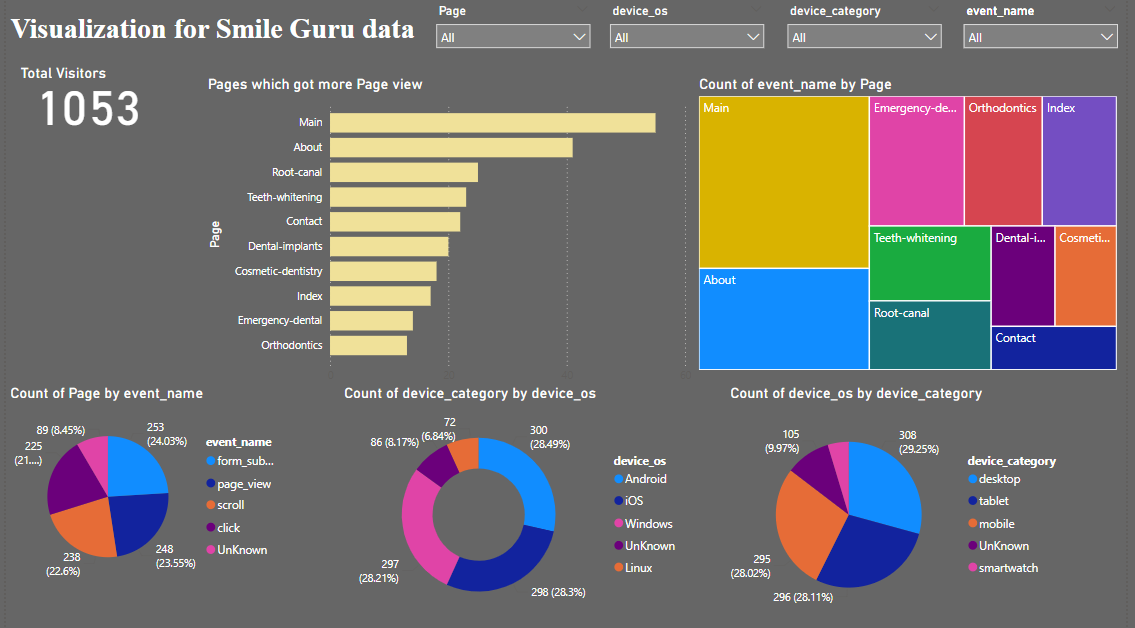

The dashboard page shown, as its layout file describes it:
{"tool":"powerbi","page":{"name":"Page 1","canvas":[1280,720],"ordinal":0},"visuals":[{"type":"barChart","title":"Pages which got more Page view","fields":{"Category":["clean data2.Page"],"Y":["CountNonNull(clean data2.event_name)"]},"box":[0,312.3,435.3,407.9],"z":0},{"type":"pieChart","fields":{"Y":["CountNonNull(clean data2.device_os)"],"Category":["clean data2.event_name"]},"box":[827.5,382.7,452.1,317.5],"z":1000},{"type":"pieChart","fields":{"Category":["clean data2.event_name"],"Y":["CountNonNull(clean data2.Page)"]},"box":[481.5,64.1,395.3,318.6],"z":2000},{"type":"treemap","fields":{"Group":["clean data2.Page"],"Values":["CountNonNull(clean data2.event_name)"]},"box":[435.3,382.7,360.6,337.5],"z":3000},{"type":"slicer","fields":{"Values":["clean data2.event_name"]},"box":[1084.1,0,196.2,60.4],"z":4000},{"type":"textbox","box":[0,9.6,533.8,64.5],"z":5000},{"type":"donutChart","fields":{"Category":["clean data2.device_os"],"Y":["CountNonNull(clean data2.device_category)"]},"box":[882.1,64.1,397.4,318.6],"z":6000},{"type":"slicer","fields":{"Values":["clean data2.event_name"]},"box":[1083.8,0,196.2,60.4],"z":7000},{"type":"slicer","fields":{"Values":["clean data2.Page"]},"box":[481.6,0,196.2,60.4],"z":8000},{"type":"slicer","fields":{"Values":["clean data2.device_os"]},"box":[680.6,0,196.2,60.4],"z":9000},{"type":"slicer","fields":{"Values":["clean data2.device_category"]},"box":[882.3,0,196.2,60.4],"z":10000},{"type":"card","title":"Total Visitors","fields":{"Values":["clean data2.Event Count"]},"box":[8.4,108.3,220.8,75.7],"z":11000},{"type":"card","title":"Top form sudmit page","fields":{"Values":["clean data2.Top Form Submit Page"]},"box":[248.1,108.3,221.8,75.7],"z":12000},{"type":"card","title":"Top click device","fields":{"Values":["clean data2.Top Click Device"]},"box":[248.1,209.2,221.8,76.8],"z":13000},{"type":"card","title":"Most Engaged User","fields":{"Values":["clean data2.Most Engaged User"]},"box":[8.4,209.2,220.8,76.8],"z":14000}]}

Visuals, with their boxes in screenshot pixels (x1, y1, x2, y2), scaled from the page's 1280x720 canvas onto the 1135x628 screenshot:
"Pages which got more Page view" barChart: bbox(0, 272, 386, 627)
pieChart - CountNonNull(clean data2.device_os) x clean data2.event_name: bbox(734, 334, 1134, 611)
pieChart - clean data2.event_name x CountNonNull(clean data2.Page): bbox(427, 56, 777, 334)
treemap - clean data2.Page x CountNonNull(clean data2.event_name): bbox(386, 334, 706, 627)
slicer - clean data2.event_name: bbox(961, 0, 1134, 53)
textbox: bbox(0, 8, 473, 65)
donutChart - clean data2.device_os x CountNonNull(clean data2.device_category): bbox(782, 56, 1134, 334)
slicer - clean data2.event_name: bbox(961, 0, 1134, 53)
slicer - clean data2.Page: bbox(427, 0, 601, 53)
slicer - clean data2.device_os: bbox(604, 0, 777, 53)
slicer - clean data2.device_category: bbox(782, 0, 956, 53)
"Total Visitors" card: bbox(7, 94, 203, 160)
"Top form sudmit page" card: bbox(220, 94, 417, 160)
"Top click device" card: bbox(220, 182, 417, 249)
"Most Engaged User" card: bbox(7, 182, 203, 249)
